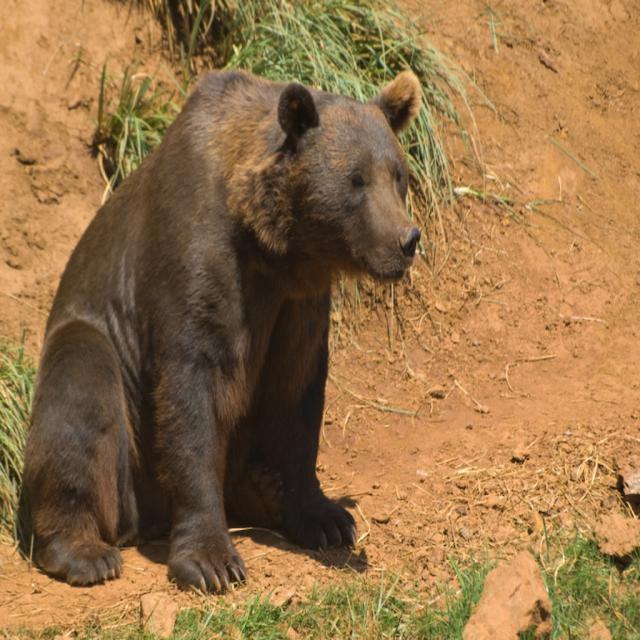Cheetahs: (19, 69, 424, 596)
